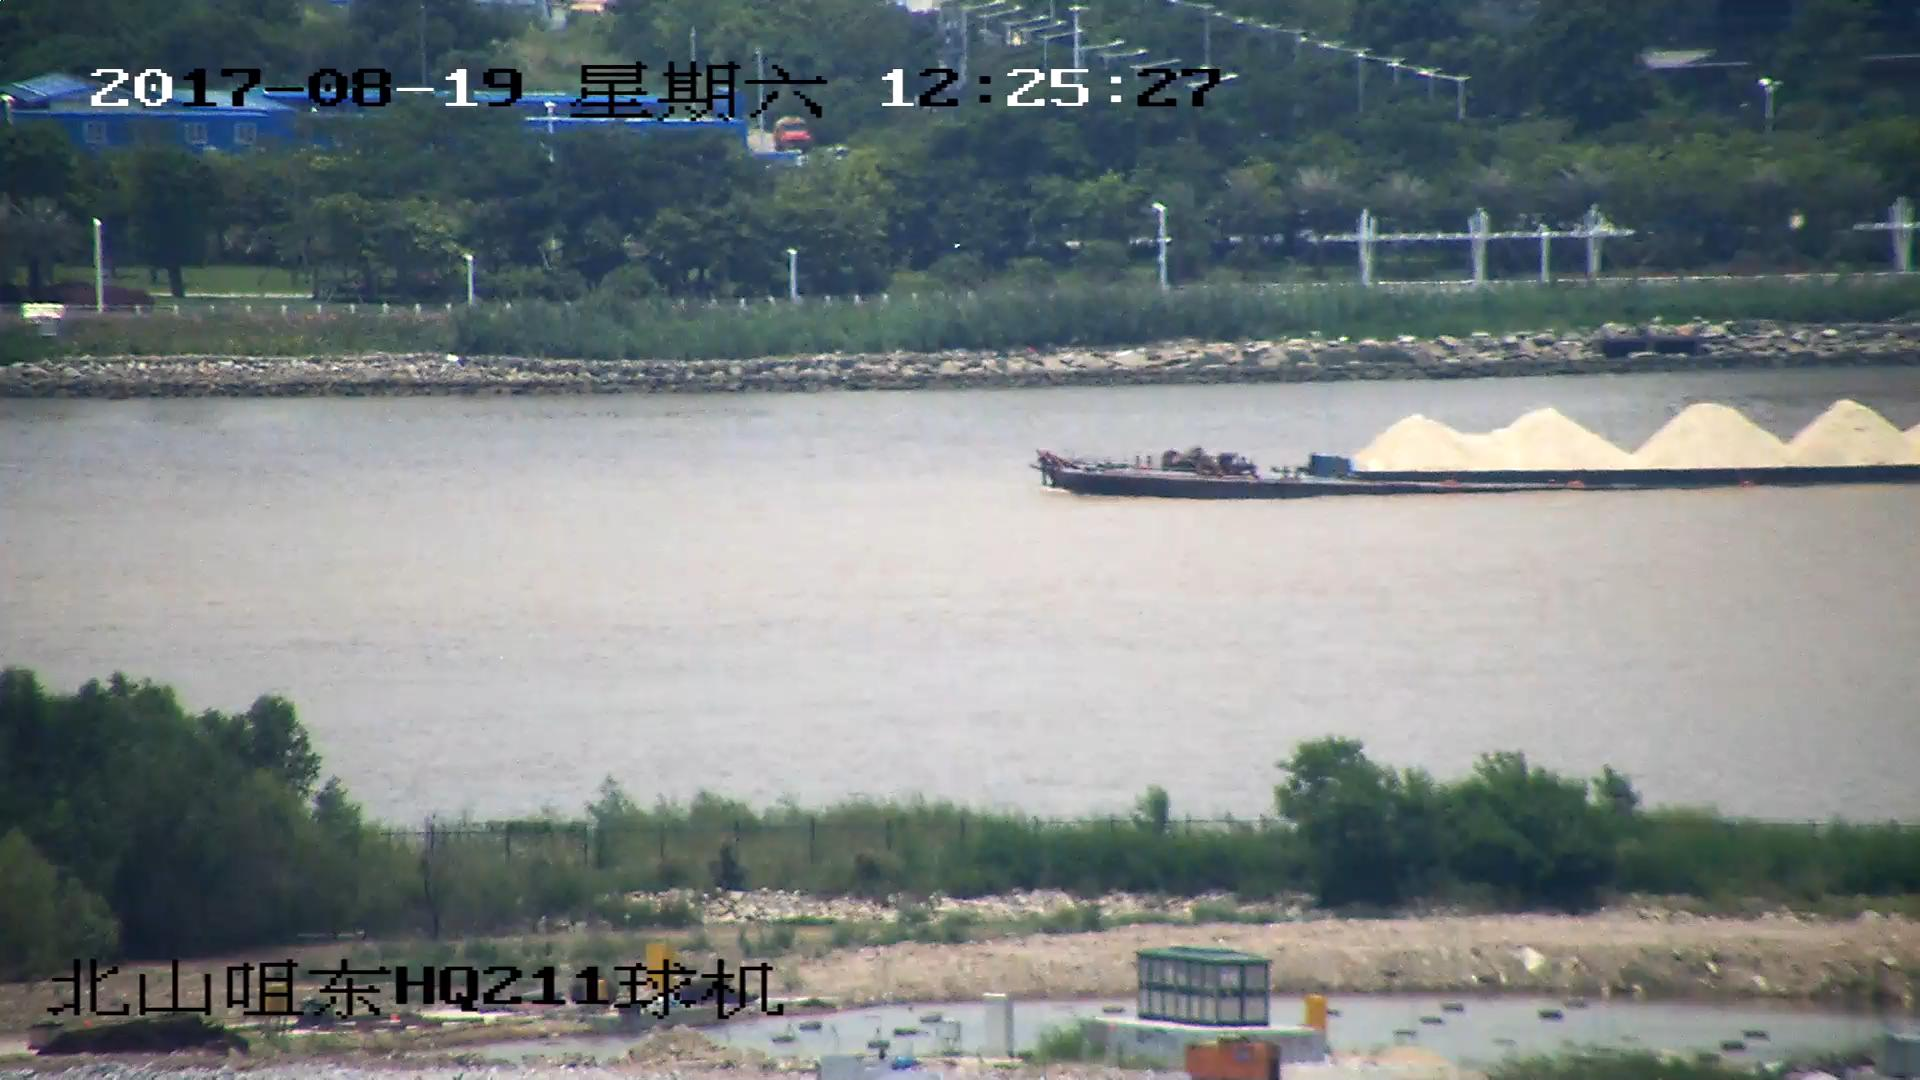ore carrier: (1036, 400, 1920, 503)
